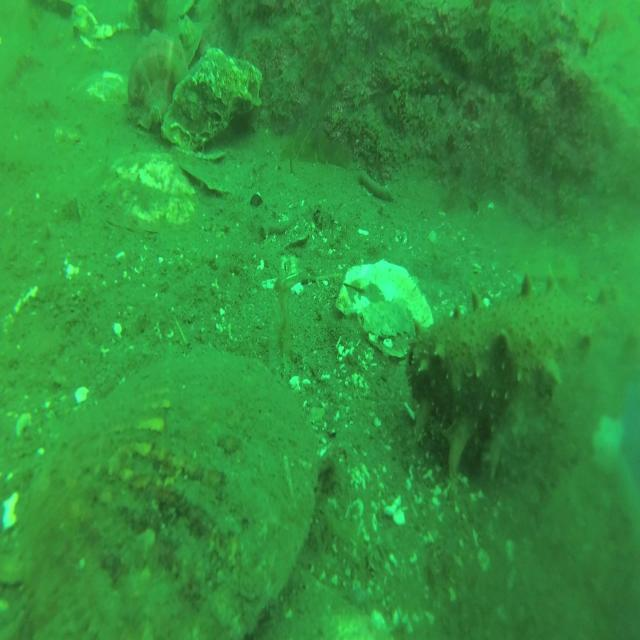holothurian: (407, 265, 636, 477)
scallop: (15, 344, 319, 640), (335, 257, 436, 364), (100, 146, 200, 237)
